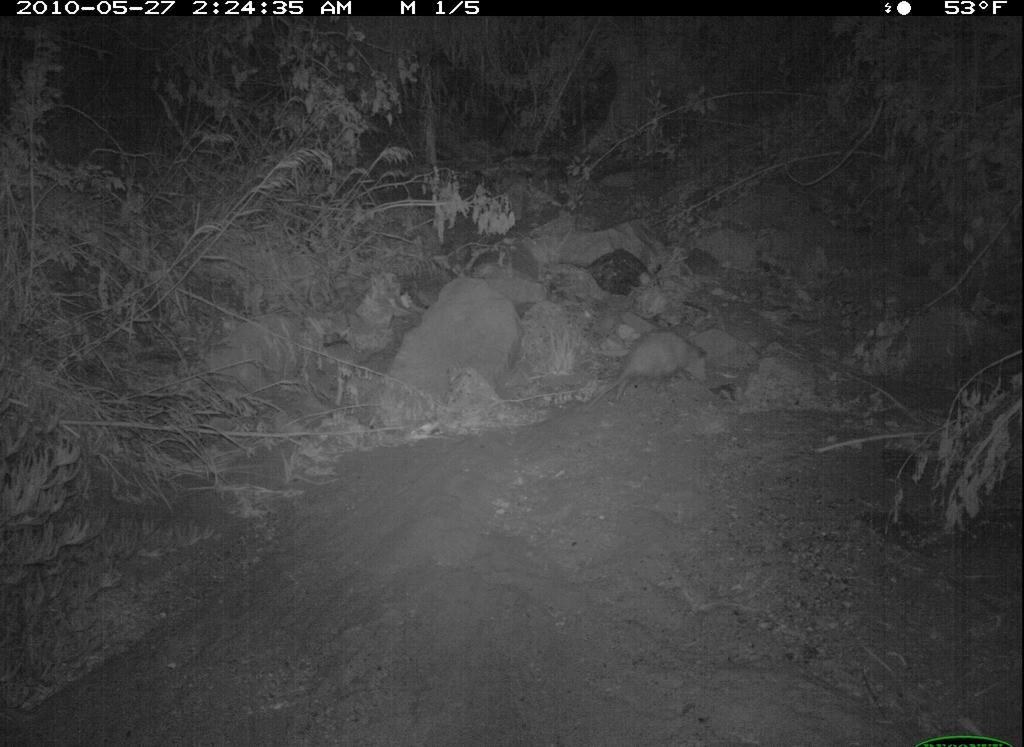opossum: (583, 325, 715, 413)
